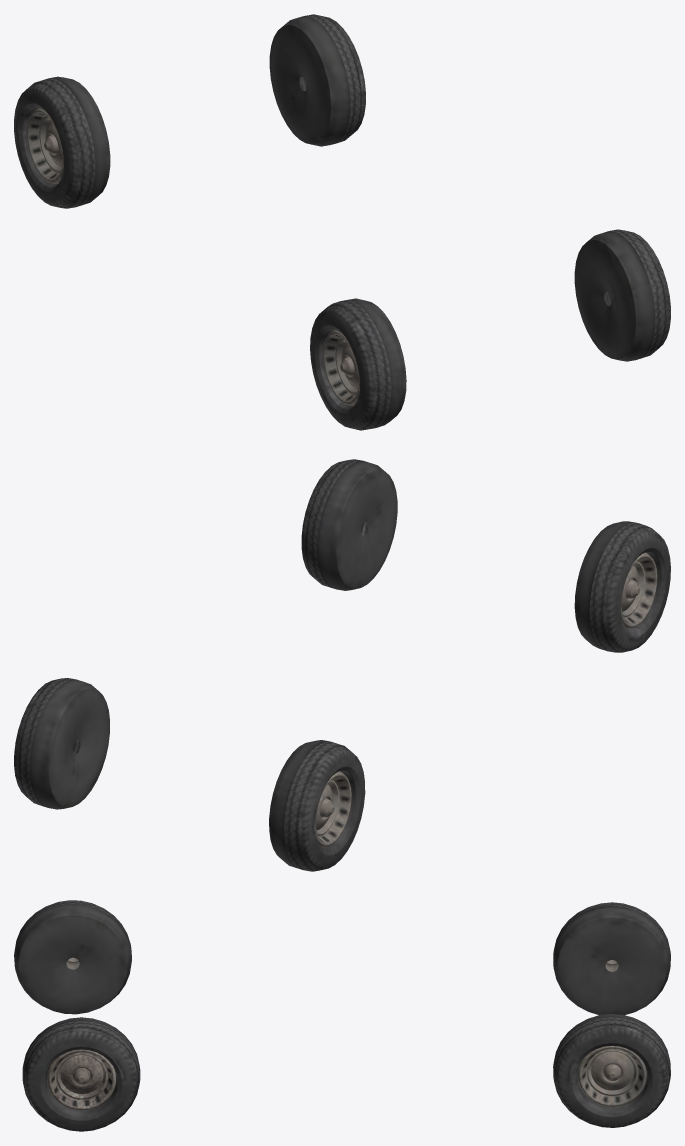
File: wheels.glb
The picture shows the model from 3 angles, top to bottom: view 1: azimuth 30°, elevation 25°; view 2: azimuth 150°, elevation 25°; view 3: azimuth 270°, elevation 25°; orthographic projection. The views are drawn at different scales.
Parts seen in each view (by area): view 1: front-right, back-left.001, back-left, front-left; view 2: front-right, front-left, back-left, back-left.001; view 3: front-left, back-left, front-right, back-left.001.
Part boxes in pixels (<box>): front-right: <box>310,298,406,430</box>; back-left.001: <box>14,76,110,208</box>; back-left: <box>269,14,365,146</box>; front-left: <box>574,229,670,361</box>; front-right: <box>574,521,670,652</box>; front-left: <box>301,459,397,590</box>; back-left: <box>14,678,109,809</box>; back-left.001: <box>269,740,365,871</box>; front-left: <box>22,1017,140,1131</box>; back-left: <box>553,1013,670,1127</box>; front-right: <box>14,900,131,1014</box>; back-left.001: <box>553,902,670,1015</box>.
Size of the model in its own units: 0.5516 by 0.2029 by 1.13.
Materials: 1 (1 with a texture image).
